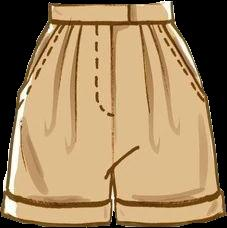Hemline: (113, 212, 226, 227), (0, 213, 112, 227)
Pantleg: (111, 1, 226, 227), (0, 2, 112, 226)
Waistline: (2, 188, 112, 206), (113, 188, 221, 206), (48, 18, 174, 25), (48, 1, 171, 7)
